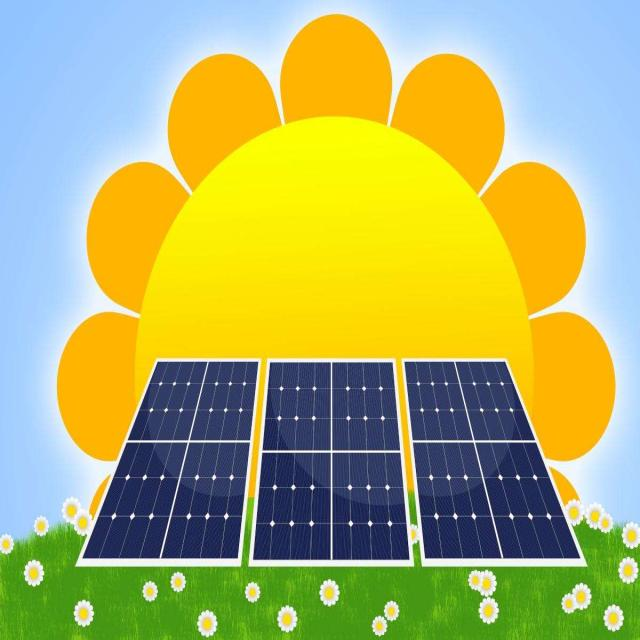clean-solar-panel: (79, 360, 582, 562)
